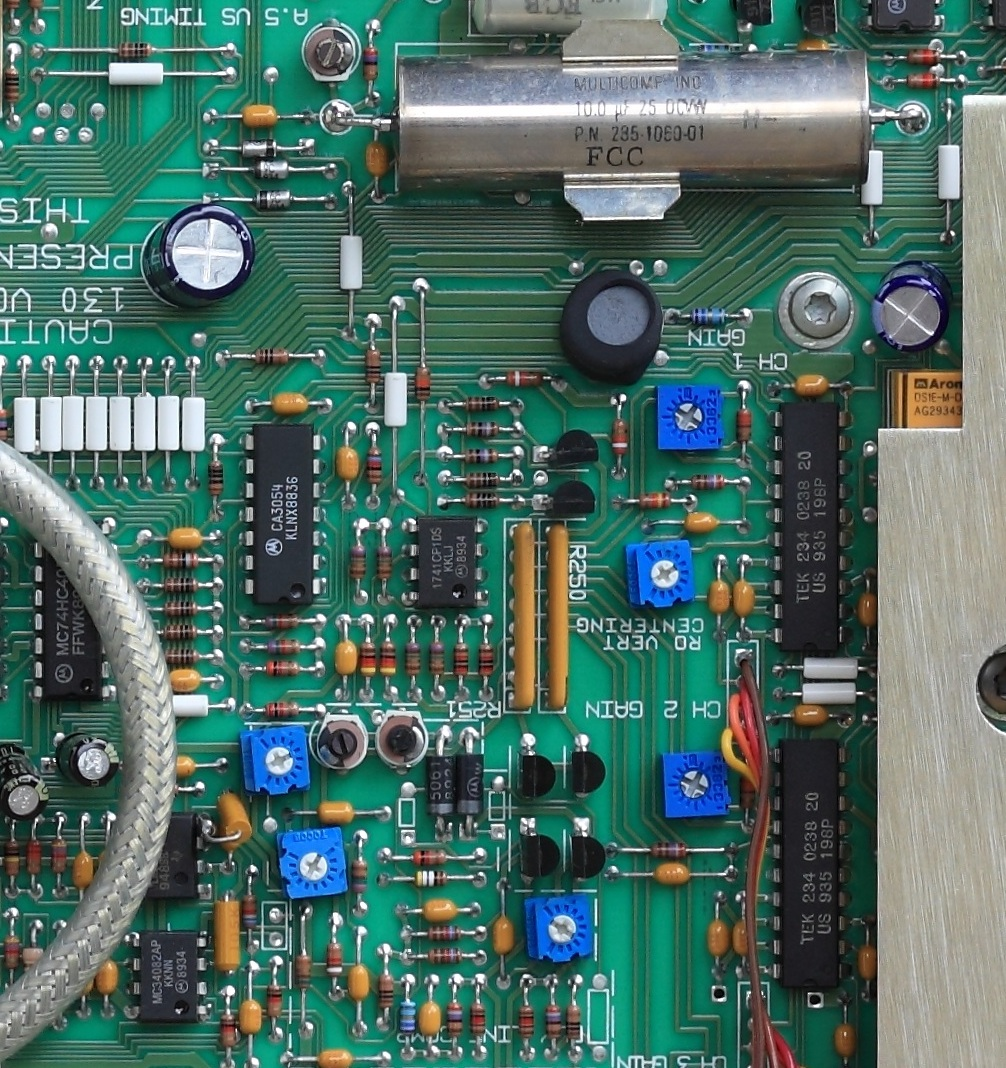Capacitor: (140, 200, 257, 312), (867, 258, 954, 358), (1, 740, 54, 823), (51, 729, 121, 791)
Diode: (455, 745, 489, 828), (423, 750, 455, 825), (244, 186, 302, 213), (232, 136, 284, 160), (244, 160, 302, 181)
Resistor: (342, 537, 371, 586), (357, 39, 383, 91), (899, 68, 951, 94), (683, 305, 737, 330), (731, 400, 756, 454), (371, 536, 396, 590), (292, 944, 317, 998), (21, 939, 47, 990), (498, 367, 553, 391), (247, 344, 300, 368), (606, 412, 631, 462), (262, 977, 287, 1027), (155, 574, 209, 597), (235, 886, 260, 935), (155, 550, 206, 574), (215, 1003, 239, 1054), (154, 622, 207, 645), (356, 634, 379, 687), (683, 470, 735, 493), (322, 934, 345, 986), (47, 830, 71, 879), (346, 851, 370, 899), (362, 441, 385, 491), (257, 658, 307, 681), (377, 633, 400, 683), (403, 869, 457, 890), (203, 456, 227, 503), (645, 838, 694, 861), (425, 638, 450, 683), (109, 38, 162, 59), (899, 46, 947, 69), (22, 831, 45, 879), (375, 968, 399, 1014), (457, 419, 507, 441), (256, 699, 308, 720), (2, 832, 23, 884), (457, 446, 511, 466), (443, 995, 467, 1040), (629, 490, 680, 511), (542, 998, 565, 1044), (515, 998, 537, 1046), (156, 599, 206, 620), (456, 469, 508, 489), (259, 611, 306, 633), (396, 995, 418, 1042), (467, 995, 489, 1042), (362, 342, 383, 391), (155, 648, 206, 668), (563, 995, 583, 1046), (1, 62, 23, 108), (402, 636, 424, 682), (407, 844, 451, 867), (412, 360, 433, 408), (1, 928, 23, 972), (457, 394, 505, 414), (259, 637, 307, 657), (475, 639, 497, 682), (458, 492, 508, 510), (451, 637, 471, 681), (1, 404, 14, 449)
